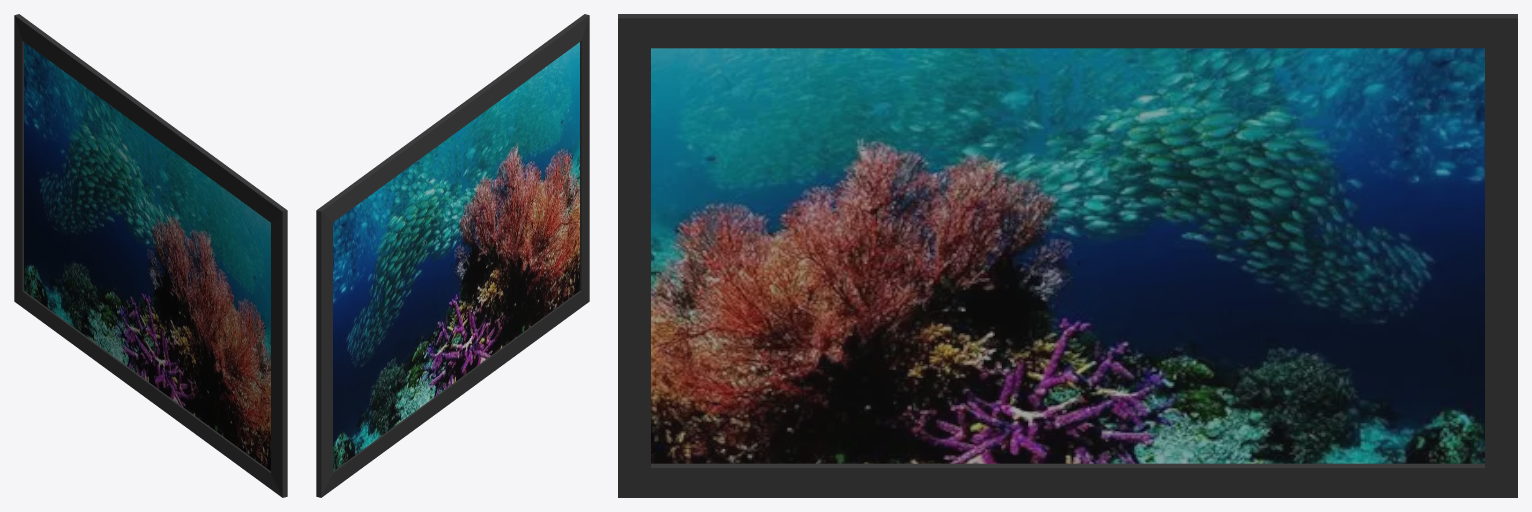
The model's file is Painting_CoralReef2.fbx.
The picture shows the model from 3 angles, left to right: view 1: azimuth 30°, elevation 25°; view 2: azimuth 150°, elevation 25°; view 3: azimuth 270°, elevation 25°; orthographic projection. The views are drawn at different scales.
Parts seen in each view (by area): view 1: coral_reef2, PaintingFrame1; view 2: coral_reef2, PaintingFrame1; view 3: coral_reef2, PaintingFrame1.
Part boxes in pixels (x1=…): coral_reef2: x1=24, y1=42, x2=270, y2=471; PaintingFrame1: x1=14, y1=14, x2=287, y2=497; coral_reef2: x1=333, y1=42, x2=579, y2=471; PaintingFrame1: x1=316, y1=14, x2=589, y2=497; coral_reef2: x1=651, y1=48, x2=1484, y2=463; PaintingFrame1: x1=618, y1=14, x2=1517, y2=497.
Bounding box in the file's own units: 4 × 160 × 272.
